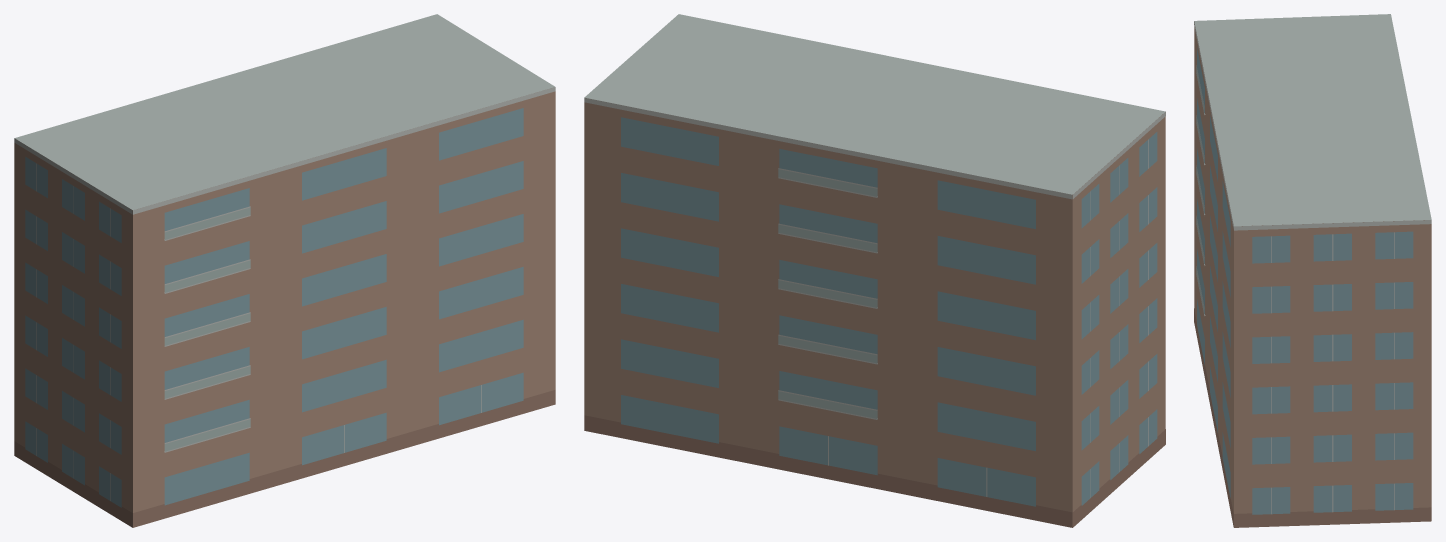
Rendered from survey-upis-33029440.glb.
The picture shows the model from 3 angles, left to right: view 1: azimuth 30°, elevation 25°; view 2: azimuth 150°, elevation 25°; view 3: azimuth 270°, elevation 25°; orthographic projection. The views are drawn at different scales.
Visible parts, largest first — view 1: survey-upis-33029440.tmp; view 2: survey-upis-33029440.tmp; view 3: survey-upis-33029440.tmp.
Part boxes in pixels (x1,y1,x2,y2): survey-upis-33029440.tmp: (14,14,555,527); survey-upis-33029440.tmp: (584,14,1165,527); survey-upis-33029440.tmp: (1194,14,1431,527).
Bounding box in the file's own units: 26.29 × 17.4 × 12.43.
